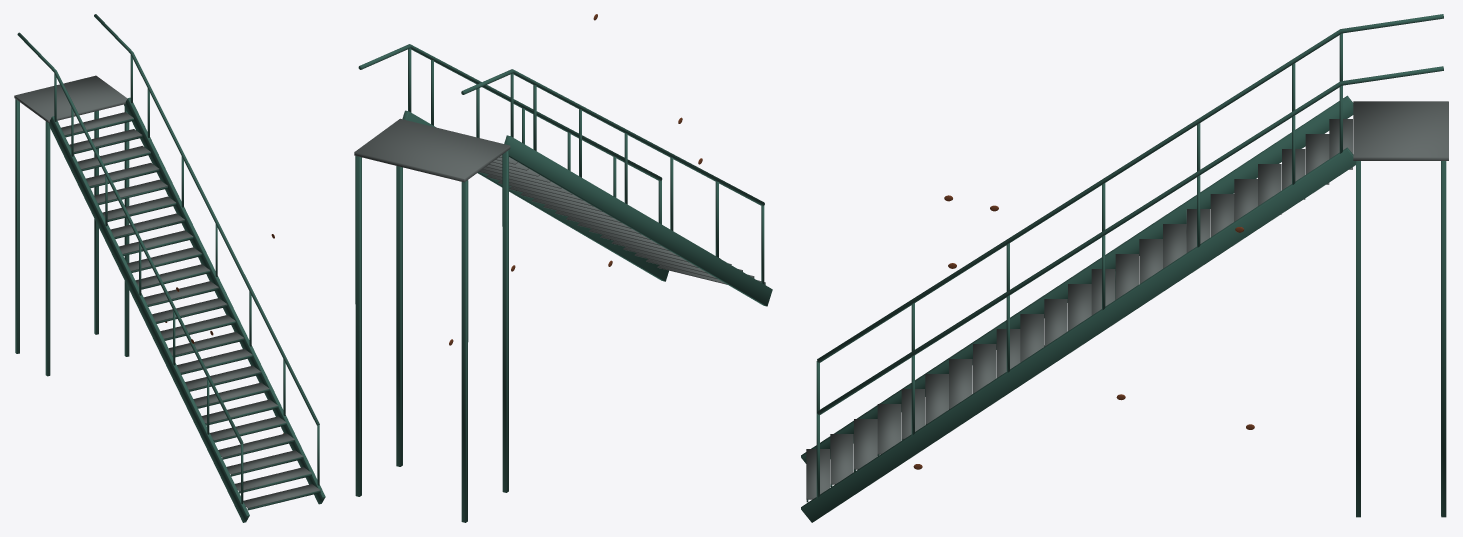
Rendered from cau_thang_373_513_110.glb.
The picture shows the model from 3 angles, left to right: view 1: azimuth 30°, elevation 25°; view 2: azimuth 150°, elevation 25°; view 3: azimuth 270°, elevation 25°; orthographic projection. The views are drawn at different scales.
Visible parts, largest first — view 1: cau_thang_373_513_110; view 2: cau_thang_373_513_110; view 3: cau_thang_373_513_110.
Boxes of the visible parts, box(x1,y1,x2,y2) form: cau_thang_373_513_110: box(14, 14, 325, 522); cau_thang_373_513_110: box(354, 14, 772, 522); cau_thang_373_513_110: box(801, 14, 1448, 522).
Bounding box in the file's own units: 1.25 × 4.72 × 6.08.
